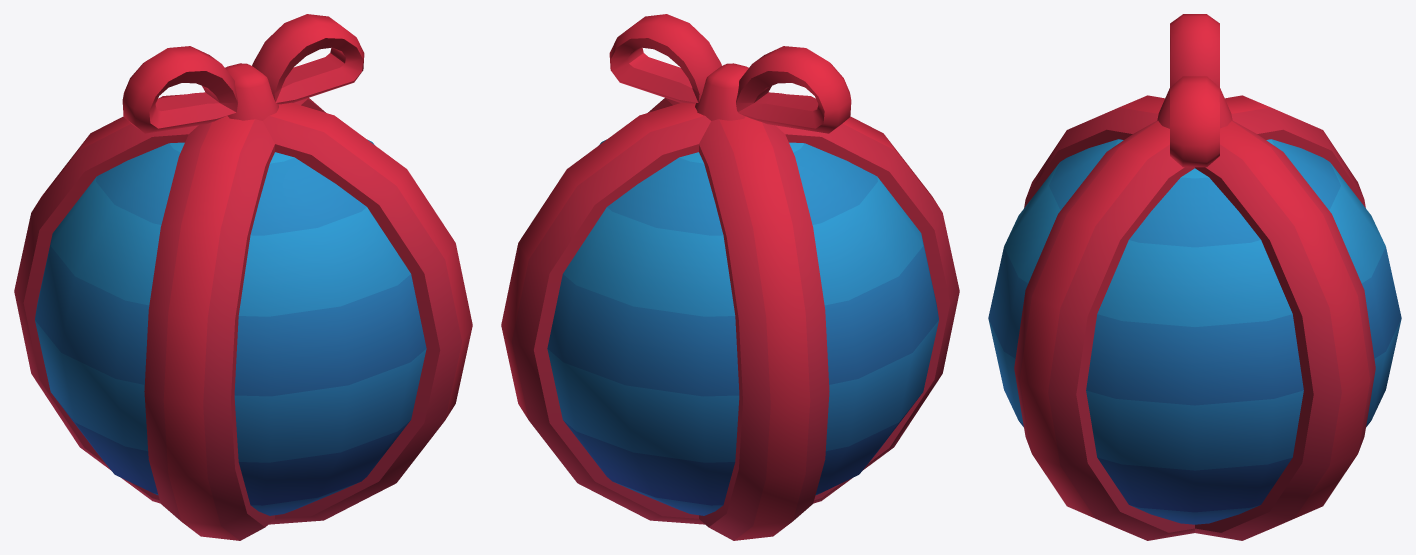
File: present_sphere_B_blue.glb
3 renders of one model, left to right at view 1: azimuth 30°, elevation 25°; view 2: azimuth 150°, elevation 25°; view 3: azimuth 270°, elevation 25°, orthographic.
Parts seen in each view (by area): view 1: present_sphere_B_blue; view 2: present_sphere_B_blue; view 3: present_sphere_B_blue.
Part boxes in pixels (left/top/right/bottom): present_sphere_B_blue: left=14, top=14, right=472, bottom=540; present_sphere_B_blue: left=501, top=14, right=959, bottom=540; present_sphere_B_blue: left=988, top=14, right=1401, bottom=540.
Bounding box in the file's own units: 0.7933 × 1 × 0.7933.
1 material, 1 textured.
